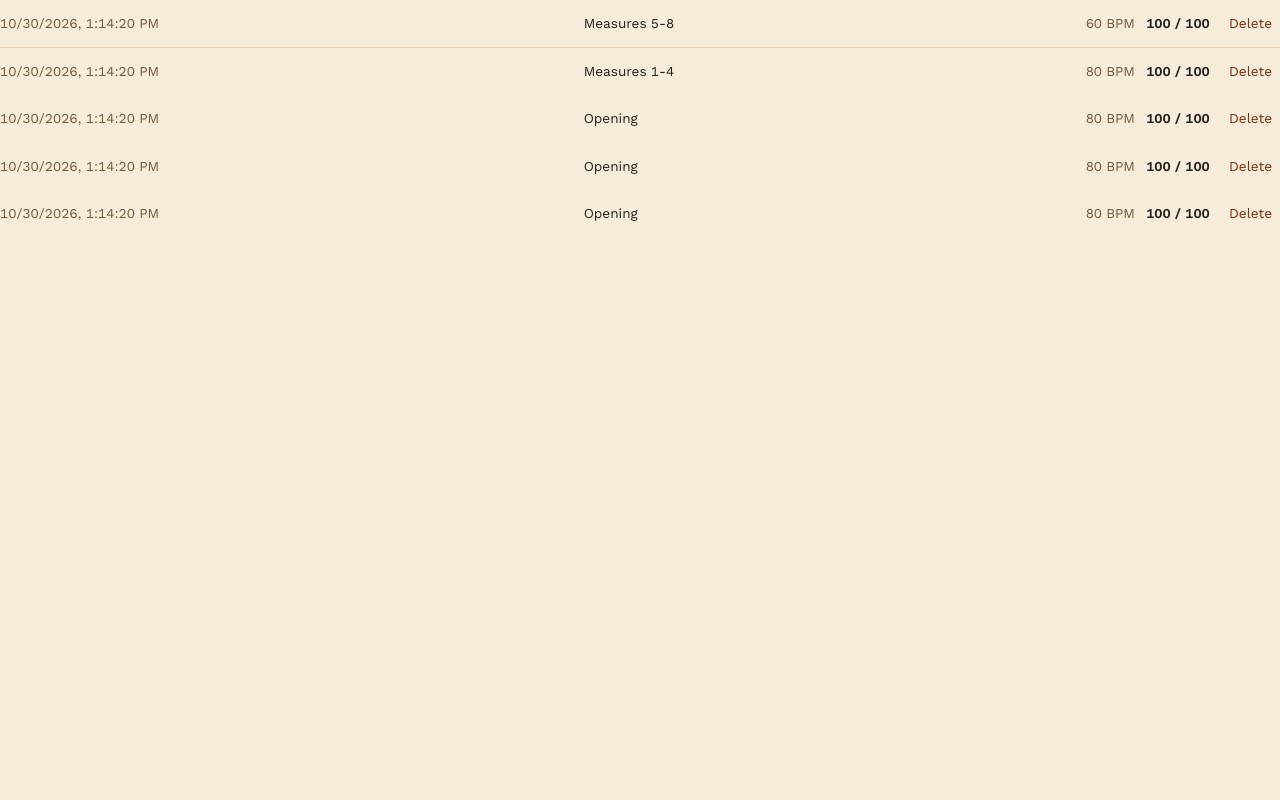
Test: HistoryView › does not delete when the confirmation is declined
What coordinates should you click on to do the following:
click the 5th button with class "attempt-delete"
I would click on:
 (1250, 213)
Its box is [1221,198,1279,228].
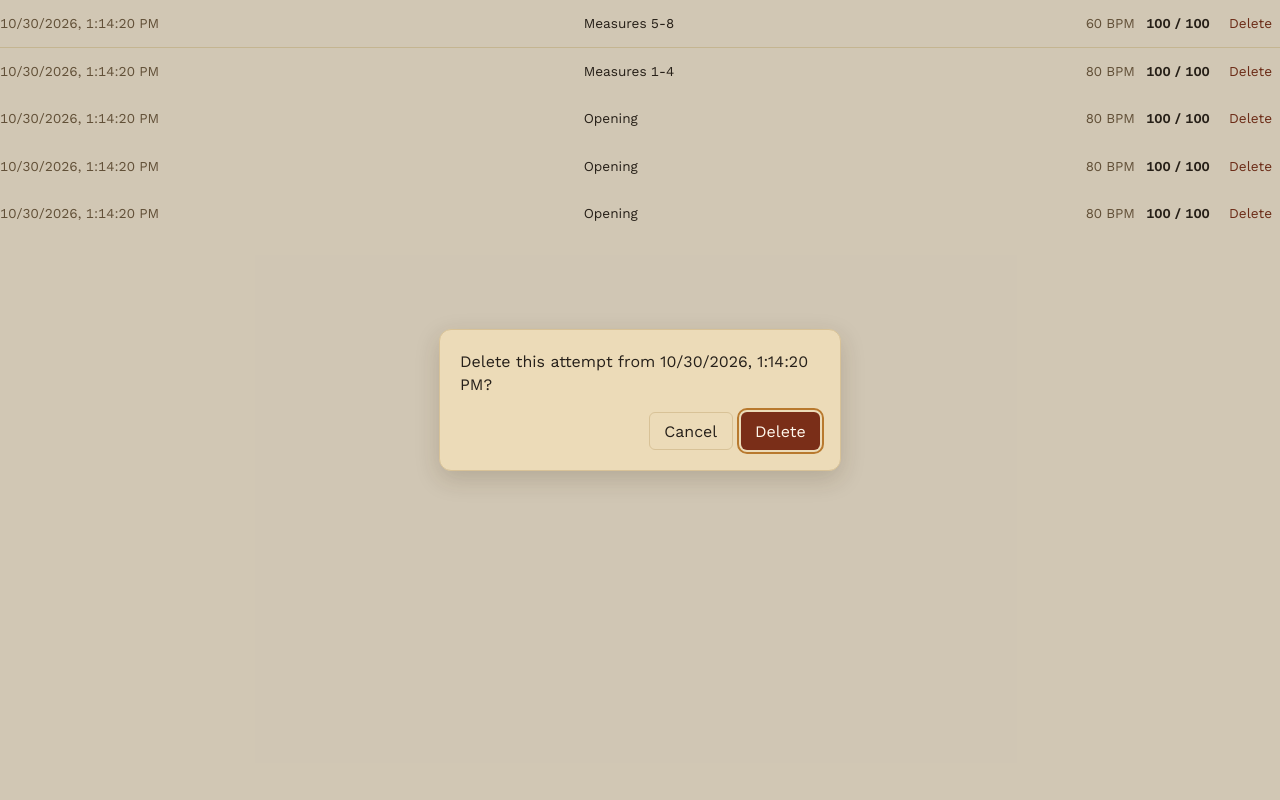
What coordinates should you click on to do the following:
click the button with class "confirm-dialog-cancel"
I would click on:
 (691, 431)
Its box is [649,412,733,450].
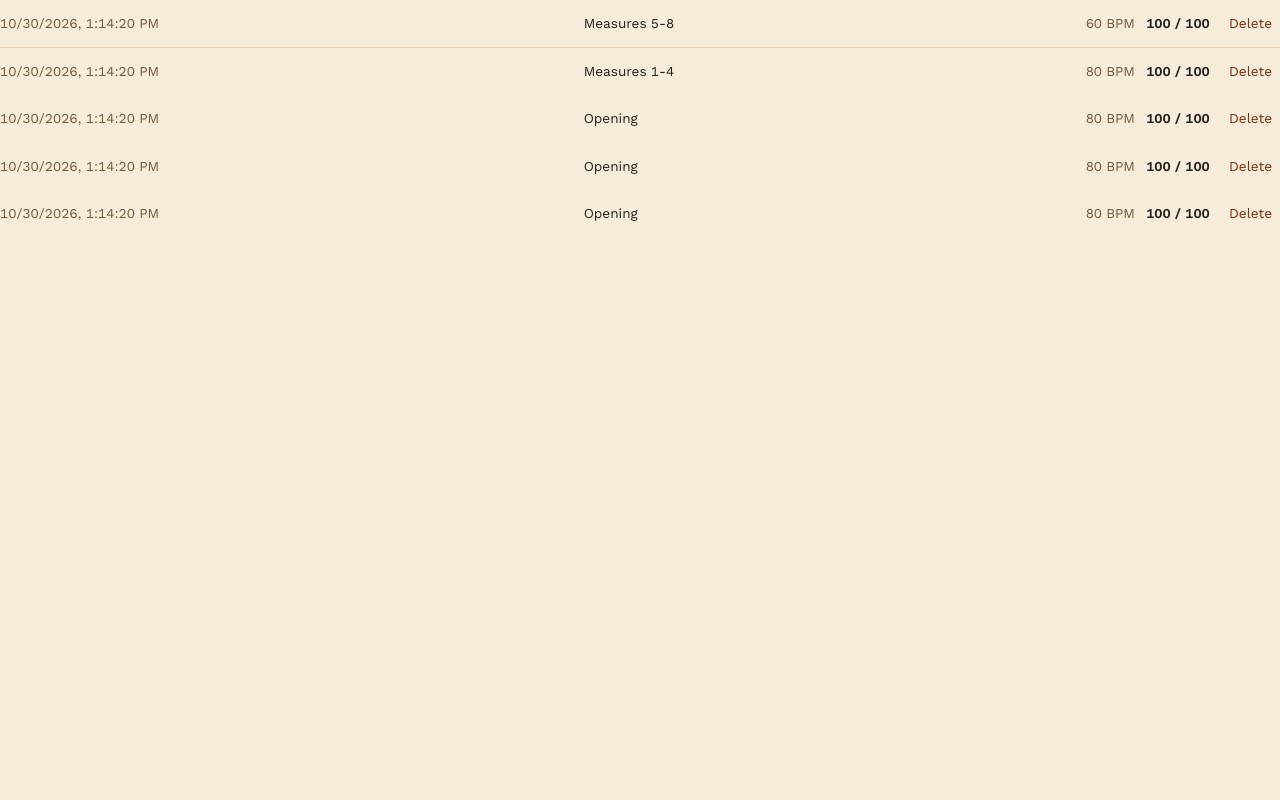
Check: the dialog with class "confirm-dialog" is gone
